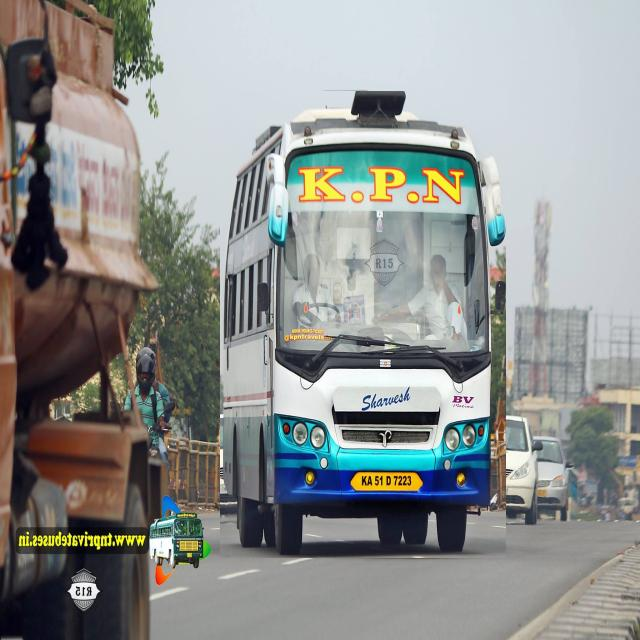bus: (220, 92, 505, 558), (148, 499, 209, 587)
car: (499, 416, 542, 525), (538, 437, 572, 521)
truck: (0, 0, 156, 640)
